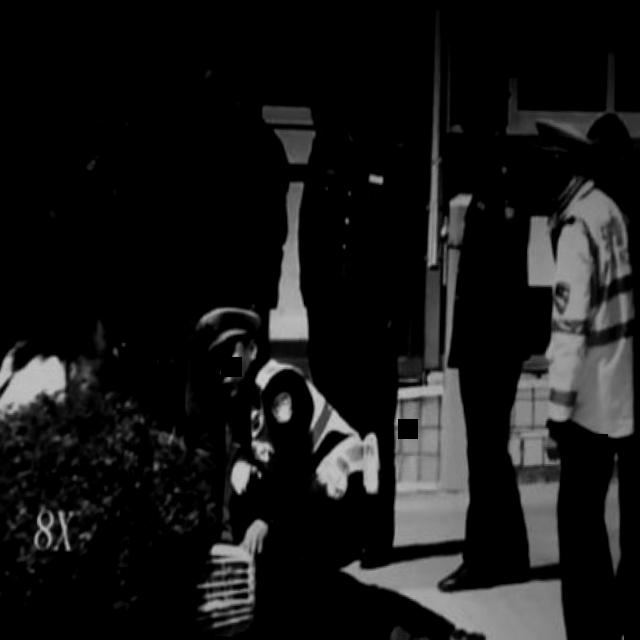Fall-Detected: (144, 487, 504, 640)
